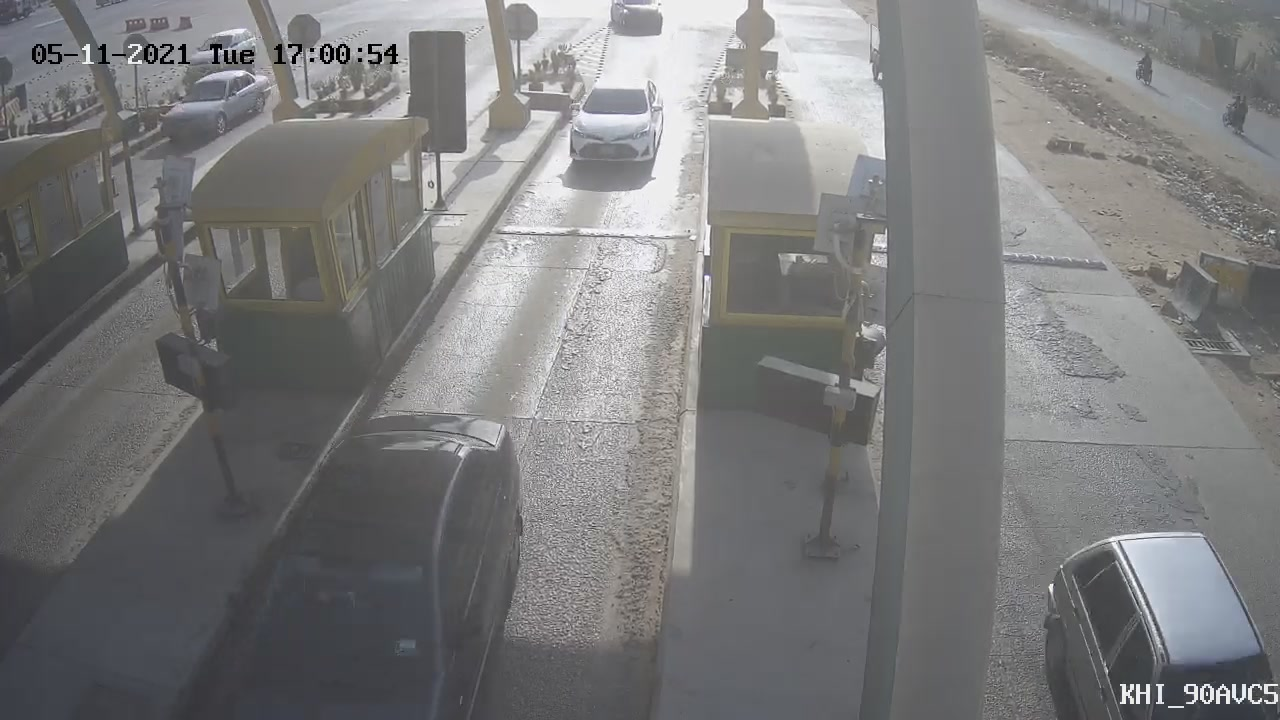F1: (548, 60, 683, 186)
